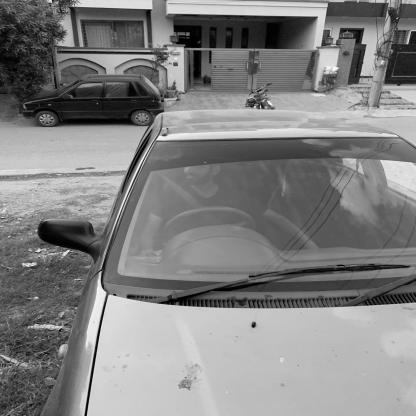seatbelt: (162, 162, 260, 234)
